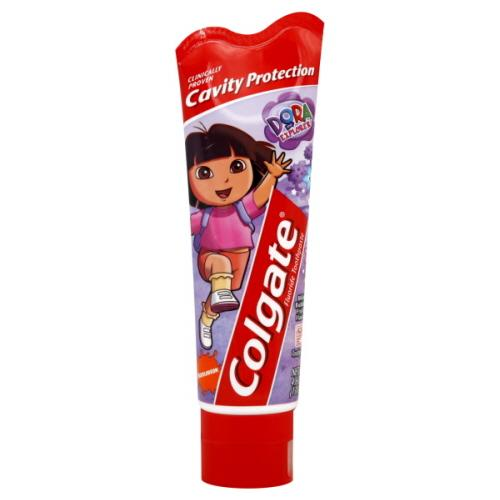toothpaste: (153, 6, 326, 493)
